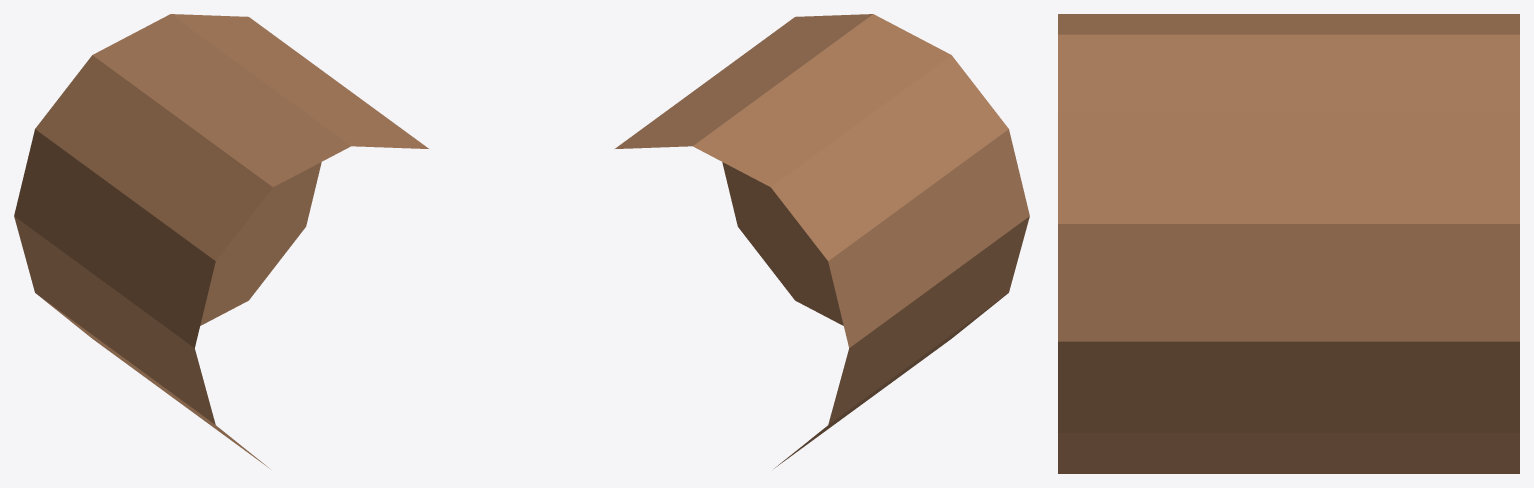
Rendered from mug.glb.
The picture shows the model from 3 angles, left to right: view 1: azimuth 30°, elevation 25°; view 2: azimuth 150°, elevation 25°; view 3: azimuth 270°, elevation 25°; orthographic projection. The views are drawn at different scales.
Size of the model in its own units: 0.08 by 0.08 by 0.08.
